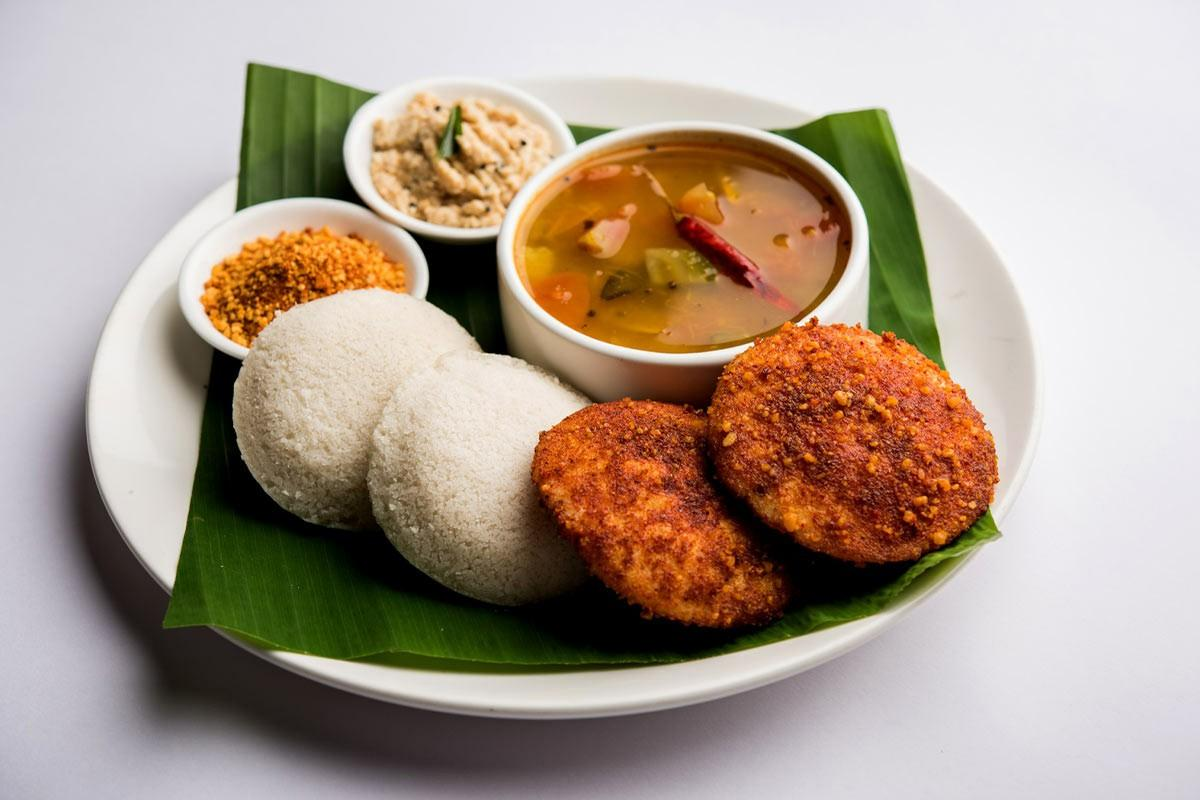Idli: (710, 325, 1001, 560), (532, 392, 803, 627), (241, 289, 474, 552), (376, 359, 603, 591)
